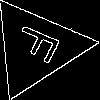F: (11, 22, 72, 70)
